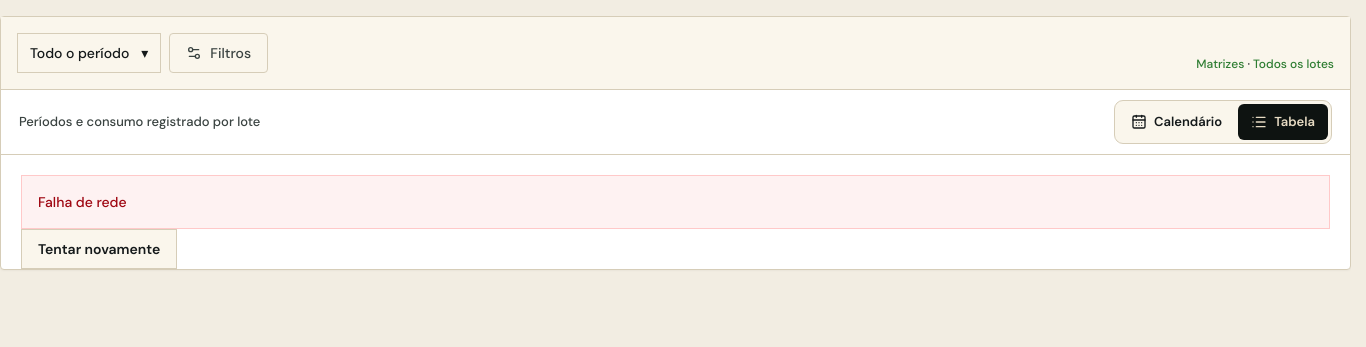
Test: fechamentos gerais › fixa o lote no seu detalhe e oferece recuperação de falha
Expected: the text "Falha de rede" is shown, [21,175,1330,229]
Expected: the link "Matrizes" is shown, [1196,56,1244,72]
Step 1. Click the button "Tentar novamente" → (99, 249), box [21,229,177,269]
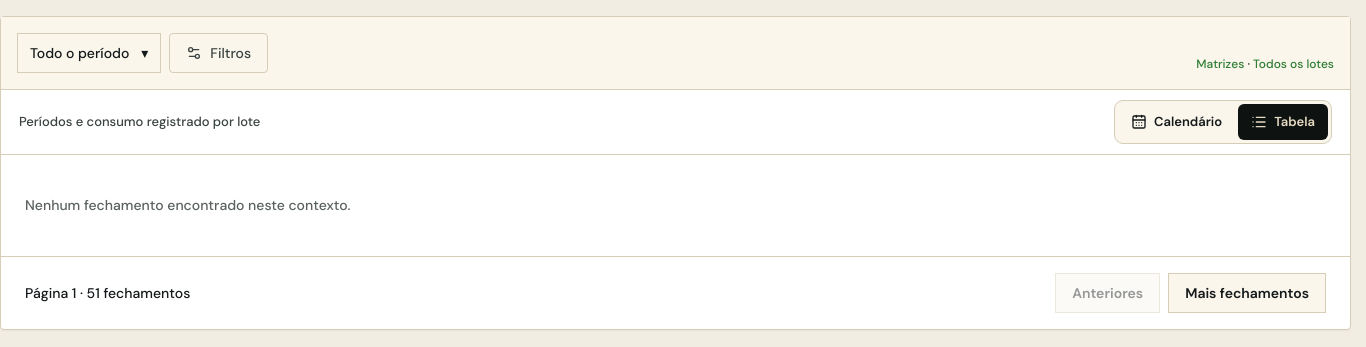
Now the text "Página 1 · 51 fechamentos" is shown, box [25,282,190,304]
